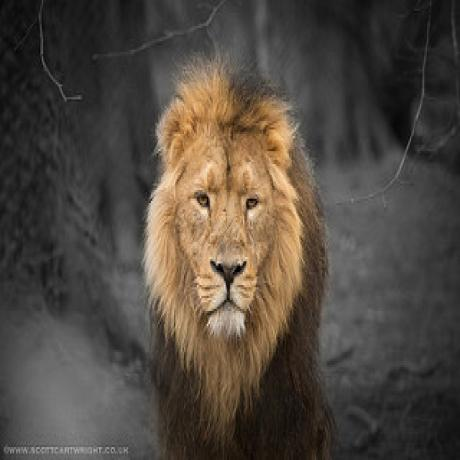Lion: (142, 61, 332, 460)
